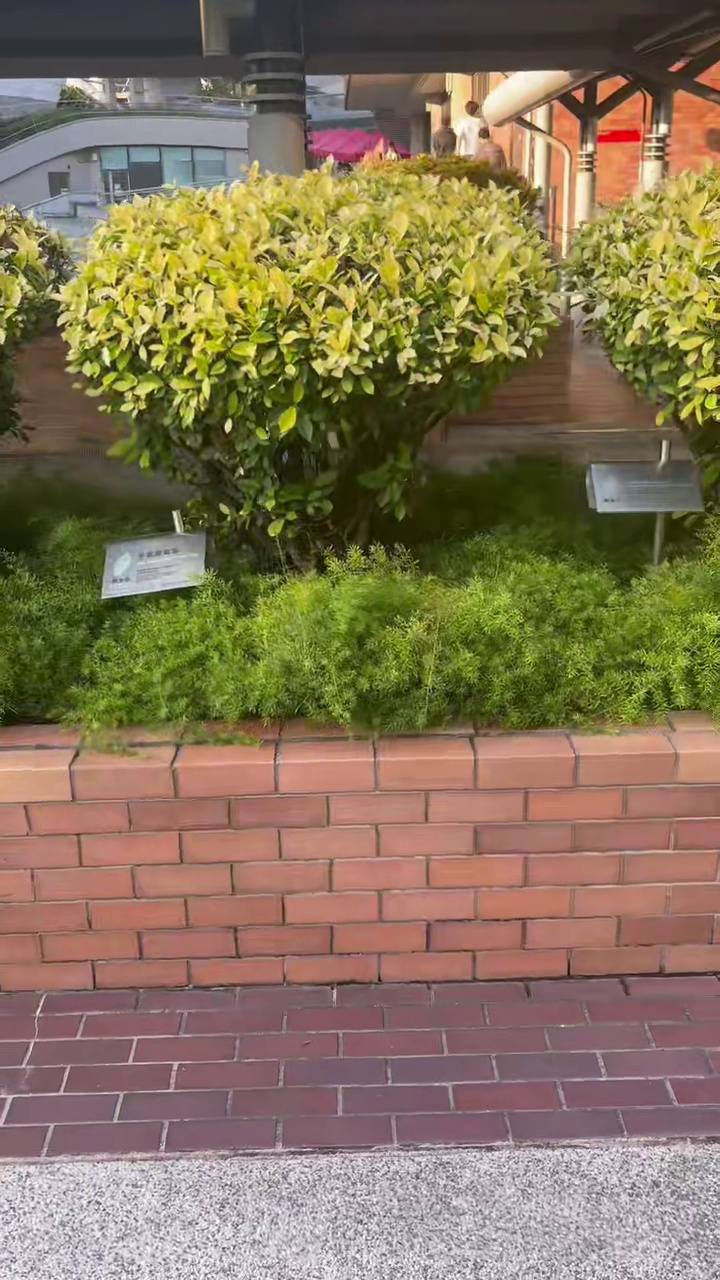Golden-leaves Fig: (59, 162, 554, 562)
